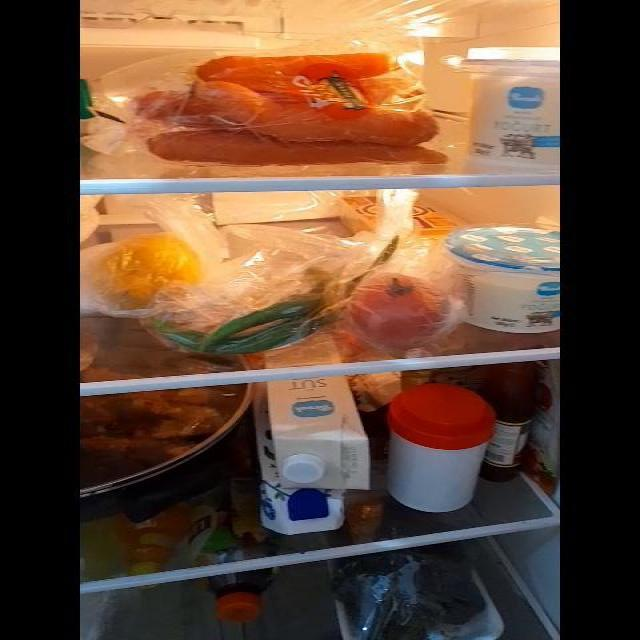broccoli: (333, 554, 500, 640)
carrot: (141, 56, 447, 167)
cheese: (342, 198, 462, 255)
green chilies: (184, 284, 340, 359)
lemon: (93, 235, 199, 309)
milk: (260, 378, 368, 533)
sauce: (488, 383, 547, 467)
tomato: (356, 273, 447, 343)
yoghurt: (448, 227, 560, 334), (458, 61, 558, 170)
